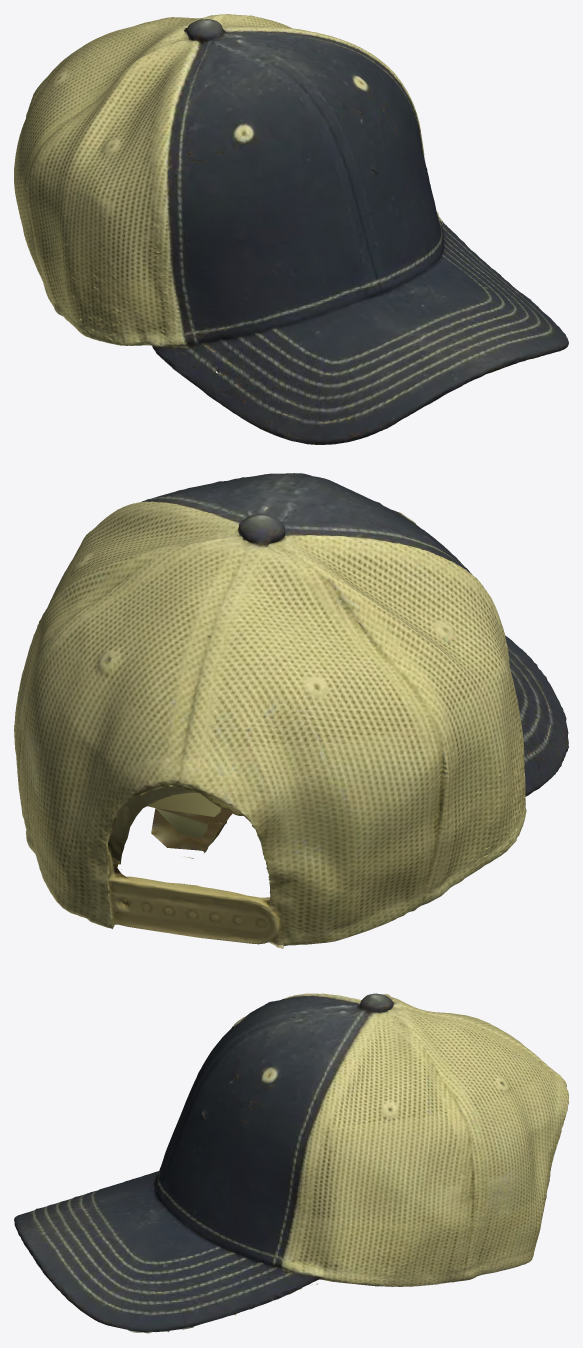
Rendered from gorra.glb.
3 renders of one model, top to bottom at view 1: azimuth 30°, elevation 25°; view 2: azimuth 150°, elevation 25°; view 3: azimuth 270°, elevation 25°, orthographic. The views are drawn at different scales.
Visible parts, largest first — view 1: Object_2; view 2: Object_2; view 3: Object_2.
Boxes of the visible parts, x1,y1,x2,y2 form: Object_2: (14,14,568,444); Object_2: (14,473,568,948); Object_2: (14,993,568,1333).
Bounding box in the file's own units: 19.17 × 13.79 × 26.45.
1 material, 1 textured.
